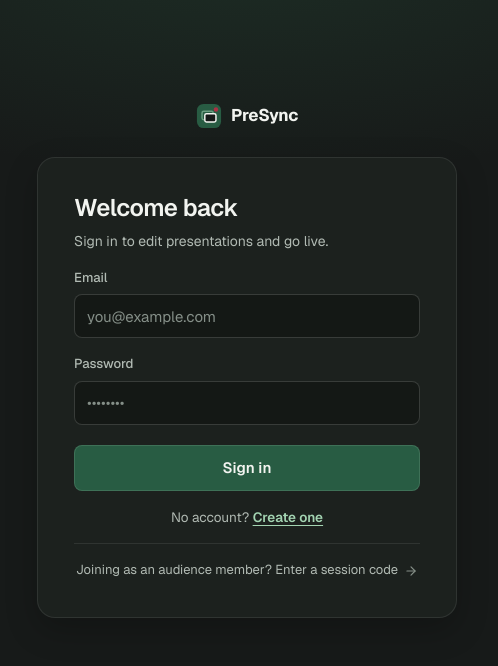
Test case: LoginPage › shows the backend error and stays on the page
The image size is (498, 666).
In the field with placeholder "you@example.com": {"x": 247, "y": 316} [74,294,420,338], type " priya@example.com "
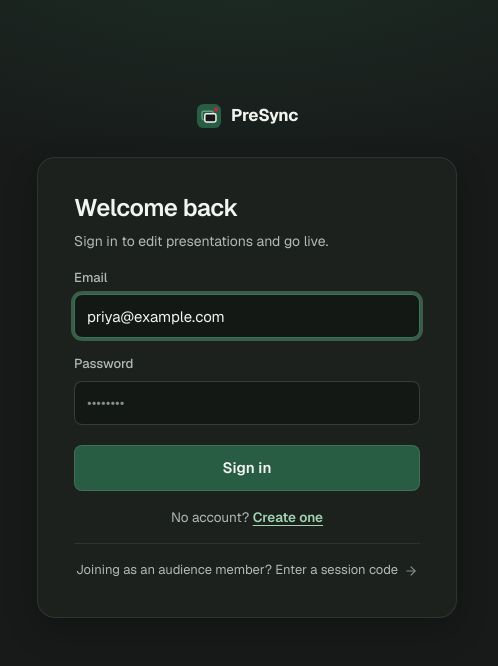
In the password field with placeholder "••••••••": {"x": 247, "y": 402} [74,380,420,424], type "hunter22"
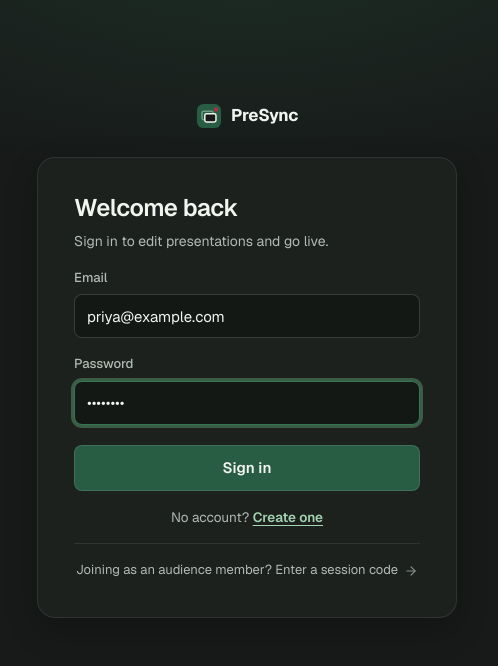
Click the button "Sign in": {"x": 247, "y": 468} [74,444,420,490]
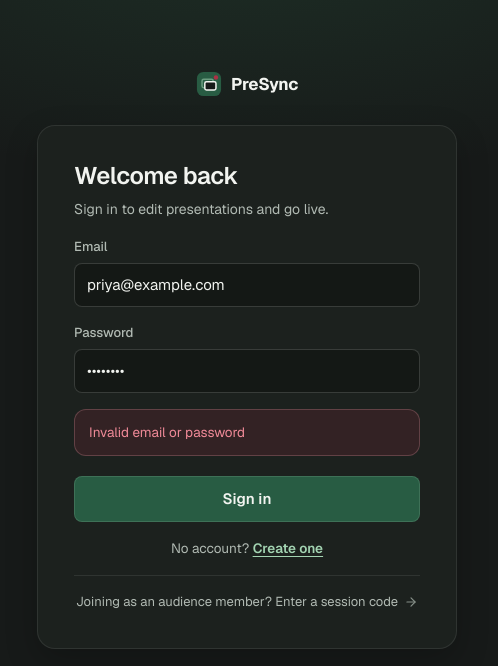
Result: the text "Invalid email or password" is shown at [74,409,420,456]
